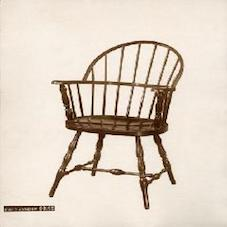chair: (43, 29, 197, 207)
